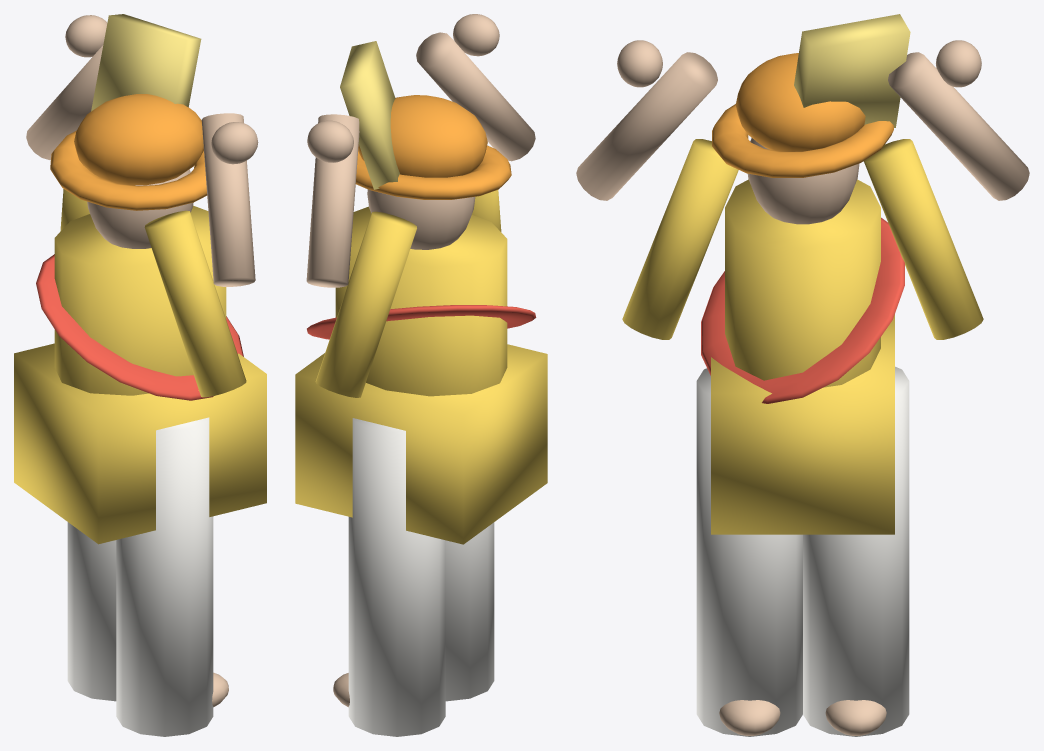
The model's file is Citizen.fbx.
3 views of the same model, side by side, from view 1: azimuth 30°, elevation 25°; view 2: azimuth 150°, elevation 25°; view 3: azimuth 270°, elevation 25° (orthographic). The views are drawn at different scales.
Parts seen in each view (by area): view 1: Citizen; view 2: Citizen; view 3: Citizen.
Boxes of the visible parts, bbox=[...] form: Citizen: bbox=[14, 14, 266, 736]; Citizen: bbox=[295, 14, 547, 736]; Citizen: bbox=[576, 14, 1029, 736].
Size of the model in its own units: 0.7045 by 1.28 by 2.2.
